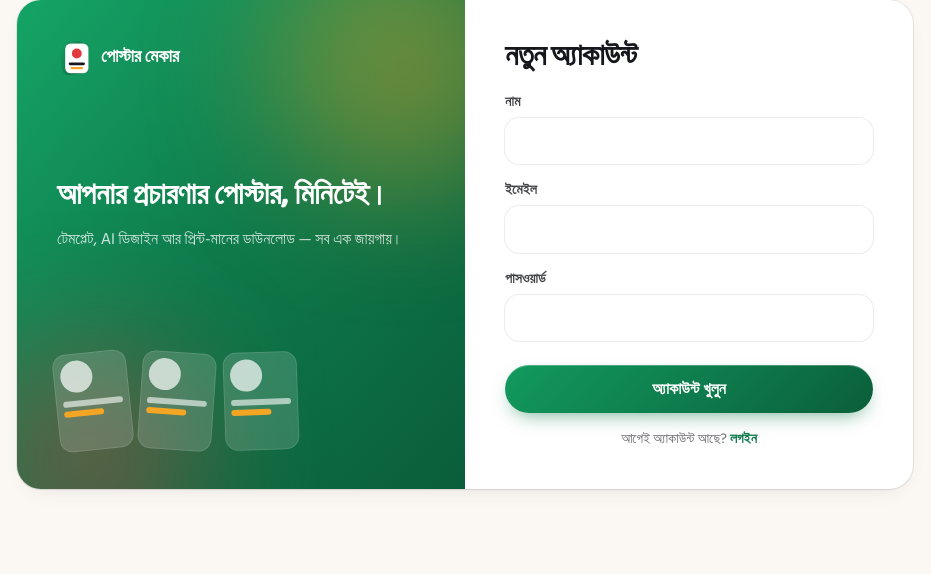
Test: AuthForm › shows Bangla validation errors and does not submit
The image size is (931, 574).
Click the button "অ্যাকাউন্ট খুলুন" at (689, 389), box [505, 365, 873, 413]
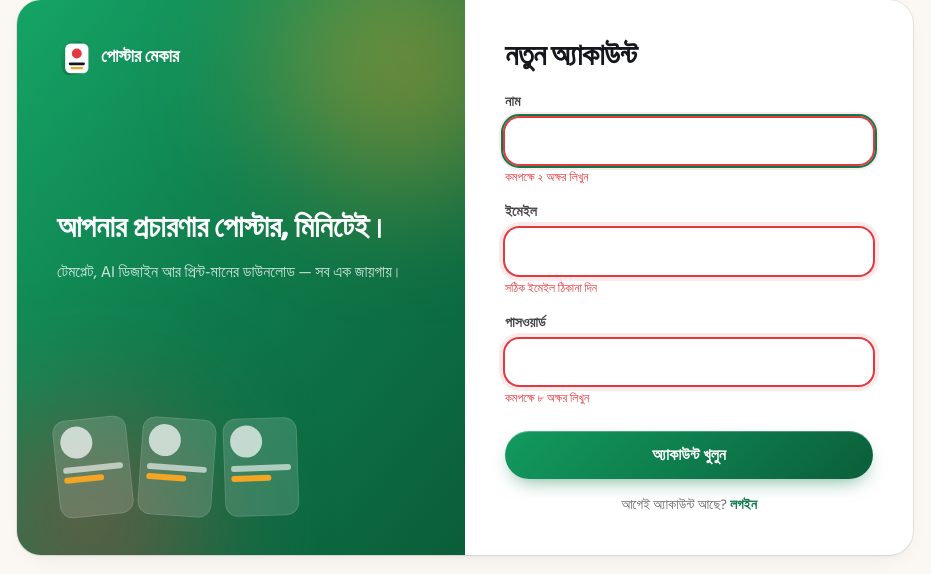
Expected: the text "সঠিক ইমেইল ঠিকানা দিন" is shown, [505, 279, 597, 298]
